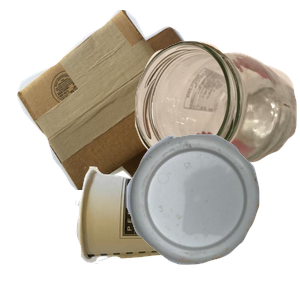cardboard: (14, 10, 222, 190)
glass: (132, 38, 300, 199)
plastic: (124, 132, 300, 300)
trash: (73, 164, 278, 300)
